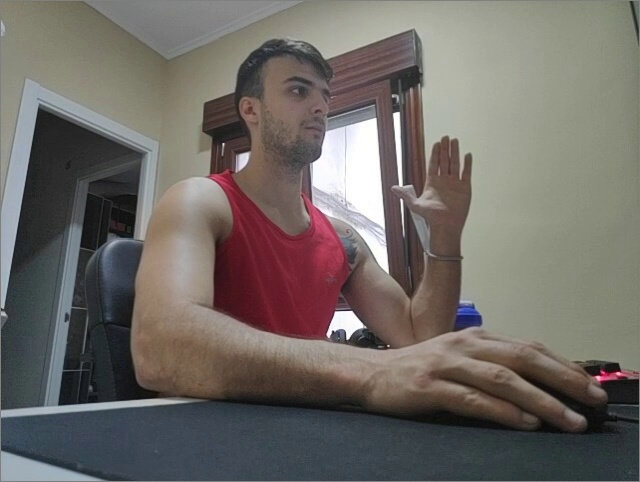Palm: (391, 129, 472, 223)
